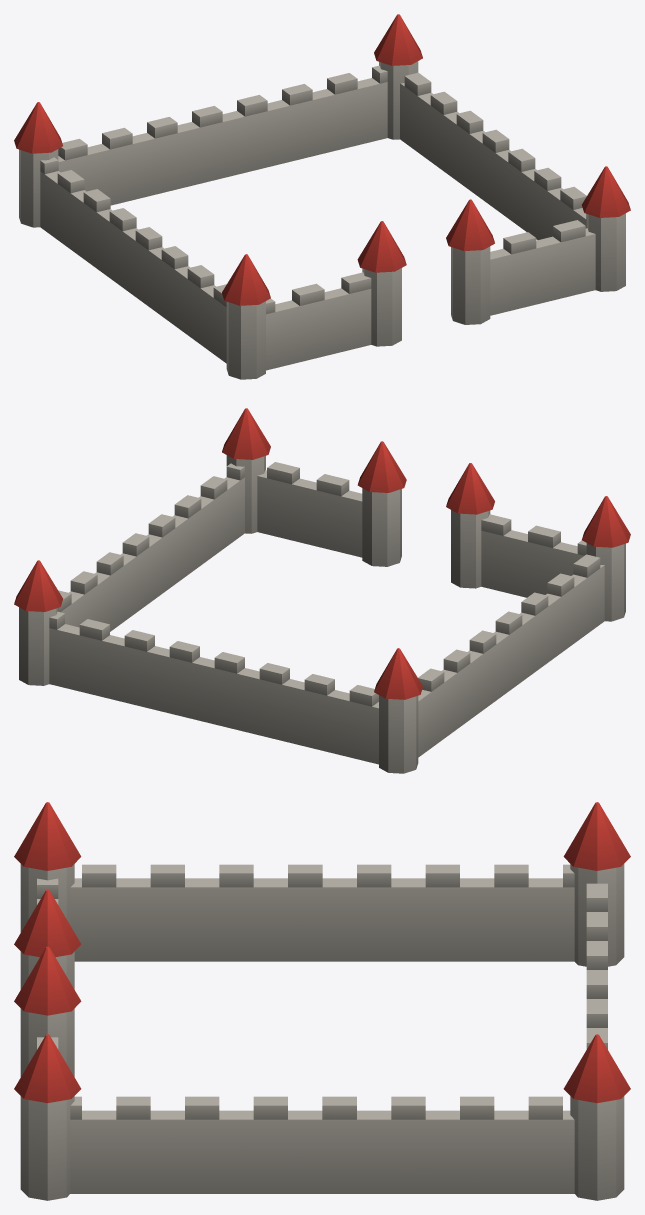
The model's file is wall_NE_2.glb.
The picture shows the model from 3 angles, top to bottom: view 1: azimuth 30°, elevation 25°; view 2: azimuth 150°, elevation 25°; view 3: azimuth 270°, elevation 25°; orthographic projection. The views are drawn at different scales.
Visible parts, largest first — view 1: Body; view 2: Body; view 3: Body.
Boxes of the visible parts, x1,y1,x2,y2 form: Body: (14, 14, 630, 379); Body: (14, 408, 630, 773); Body: (14, 802, 630, 1200).
Size of the model in its own units: 6.4 by 1.77 by 6.4.
1 material, 1 textured.
